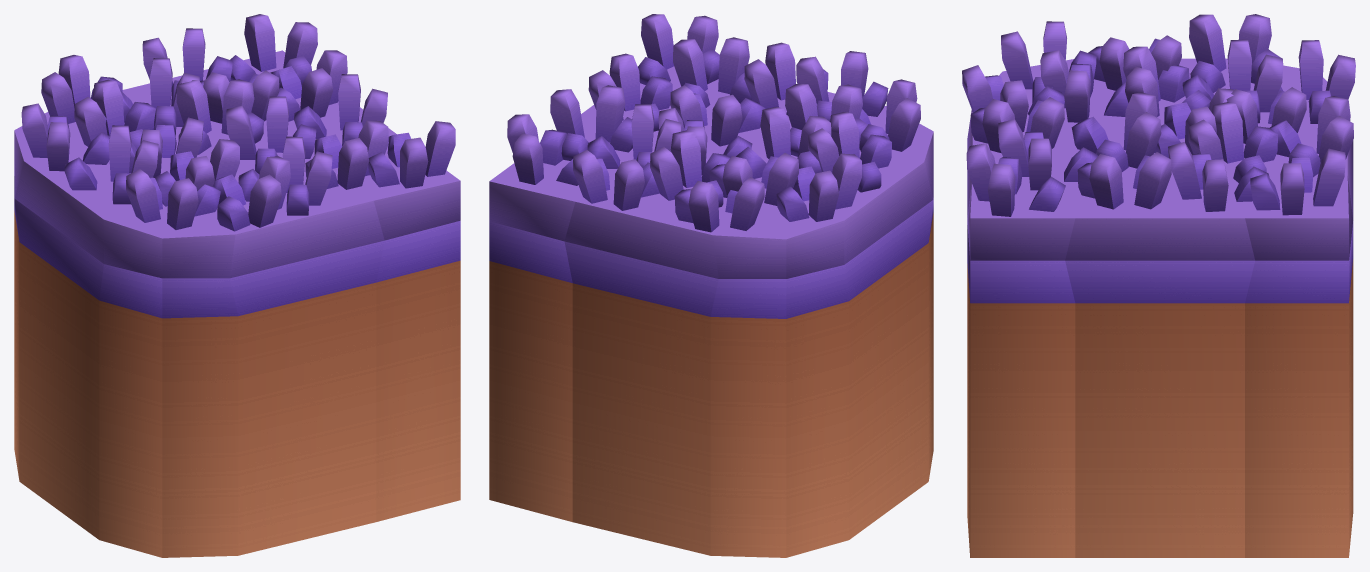
File: bloco de grama 2 cantos com grama.glb
The picture shows the model from 3 angles, left to right: view 1: azimuth 30°, elevation 25°; view 2: azimuth 150°, elevation 25°; view 3: azimuth 270°, elevation 25°; orthographic projection. The views are drawn at different scales.
Parts seen in each view (by area): view 1: grass.009; view 2: grass.009; view 3: grass.009.
Part boxes in pixels (<box>): grass.009: <box>14,14,460,557</box>; grass.009: <box>489,14,933,557</box>; grass.009: <box>962,14,1355,557</box>.
Size of the model in its own units: 1.05 by 1.15 by 1.05.
2 materials, 2 textured.
